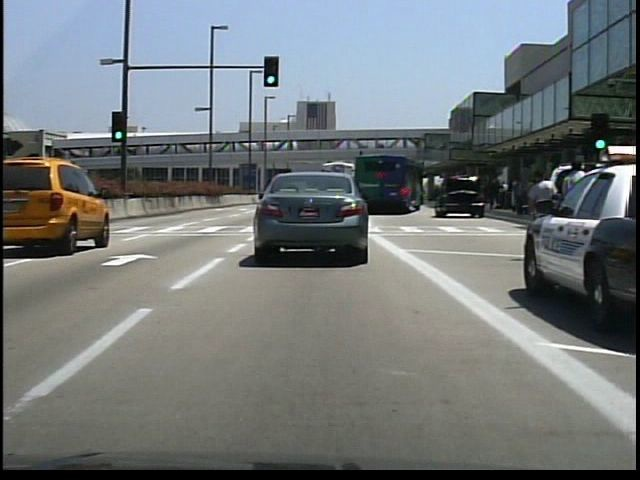person: (520, 163, 560, 263), (560, 153, 593, 269), (31, 167, 47, 228), (50, 171, 71, 217)
